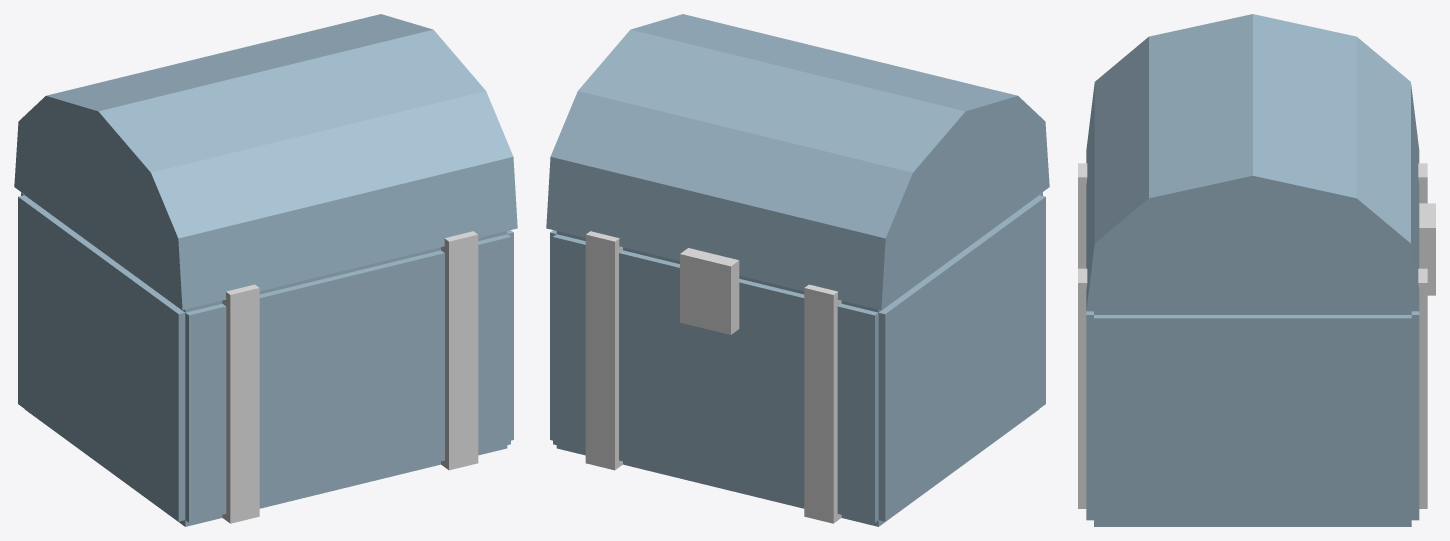
The model's file is glass_chest_v0.glb.
3 views of the same model, side by side, from view 1: azimuth 30°, elevation 25°; view 2: azimuth 150°, elevation 25°; view 3: azimuth 270°, elevation 25° (orthographic).
Parts seen in each view (by area): view 1: glass_chest_v0; view 2: glass_chest_v0; view 3: glass_chest_v0.
Boxes of the visible parts, x1,y1,x2,y2 form: glass_chest_v0: [14, 14, 517, 526]; glass_chest_v0: [546, 14, 1049, 526]; glass_chest_v0: [1078, 14, 1435, 526].
Bounding box in the file's own units: 0.92 × 0.94 × 0.86.
